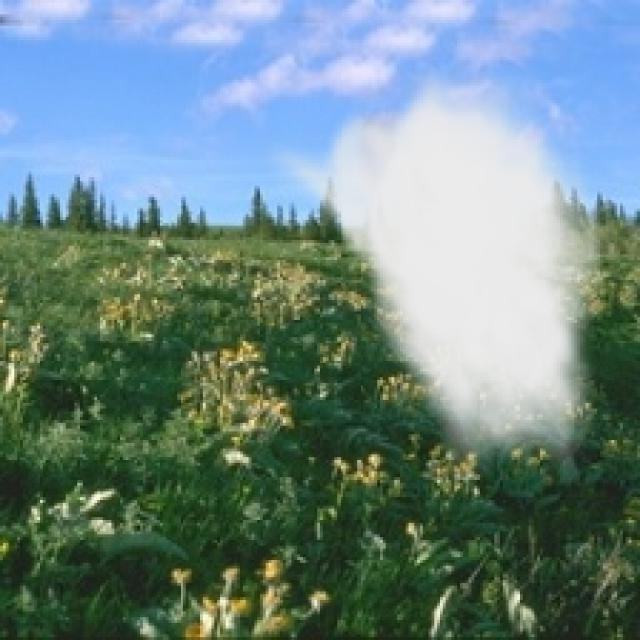Smoke: (259, 60, 612, 486)
